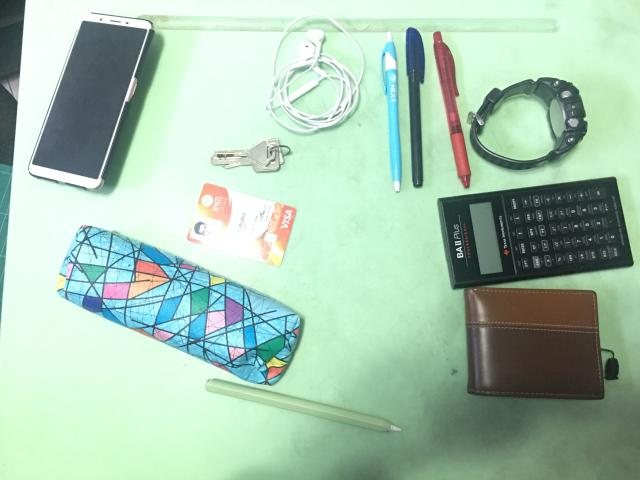Keys: (211, 139, 284, 171)
Mobile phone: (29, 14, 154, 190)
Pen: (434, 31, 471, 188), (381, 31, 401, 191), (406, 28, 425, 188)
Wallet: (465, 288, 604, 399)
Watch: (469, 78, 588, 169)
wire: (266, 15, 364, 132)
